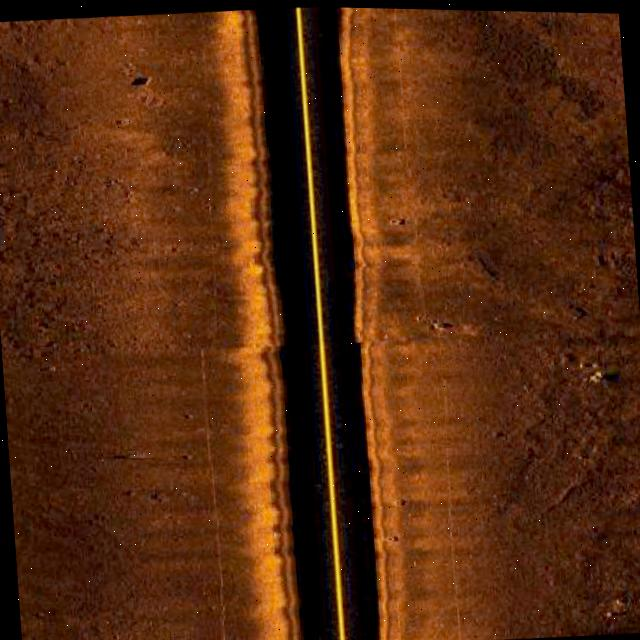mine: (110, 449, 160, 464), (127, 73, 156, 87)
other: (388, 211, 405, 221)
